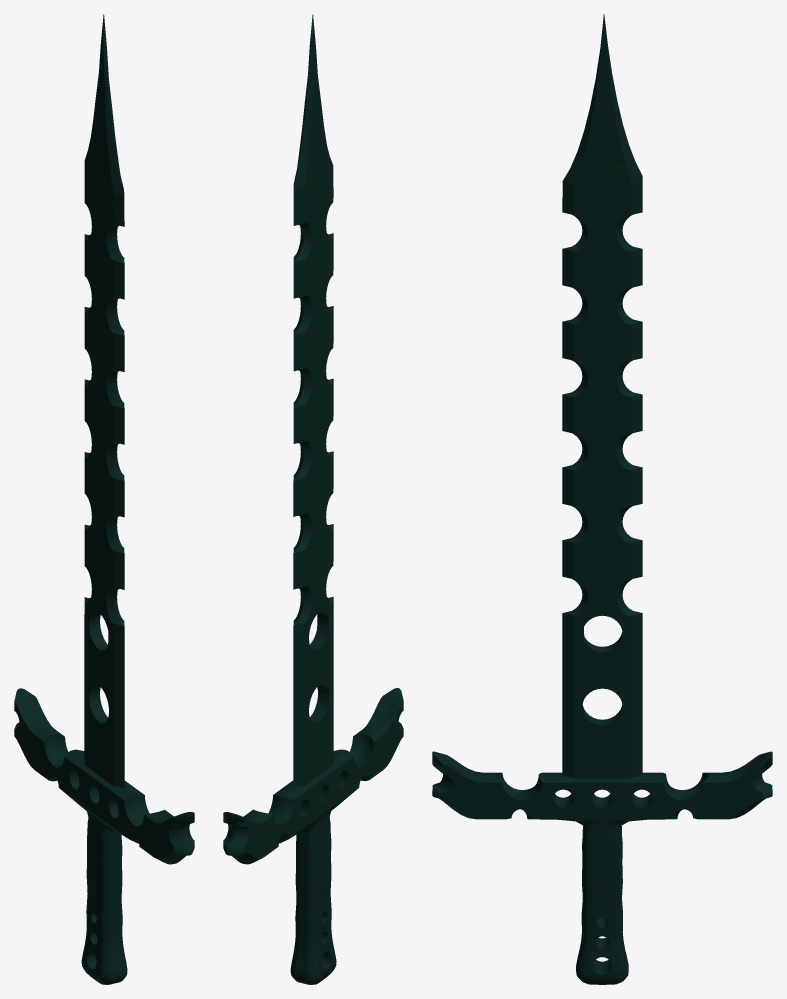
The model's file is dashen.FBX.
The picture shows the model from 3 angles, left to right: view 1: azimuth 30°, elevation 25°; view 2: azimuth 150°, elevation 25°; view 3: azimuth 270°, elevation 25°; orthographic projection.
Visible parts, largest first — view 1: Line01, Rectangle01; view 2: Line01, Rectangle01; view 3: Line01, Rectangle01.
Part boxes in pixels (x1,y1,x2,y2): Line01: (84,14,124,787); Rectangle01: (14,688,194,984); Line01: (293,14,333,787); Rectangle01: (223,688,403,984); Line01: (562,14,642,778); Rectangle01: (432,751,772,984).
Size of the model in its own units: 3.57 by 119 by 37.94.
